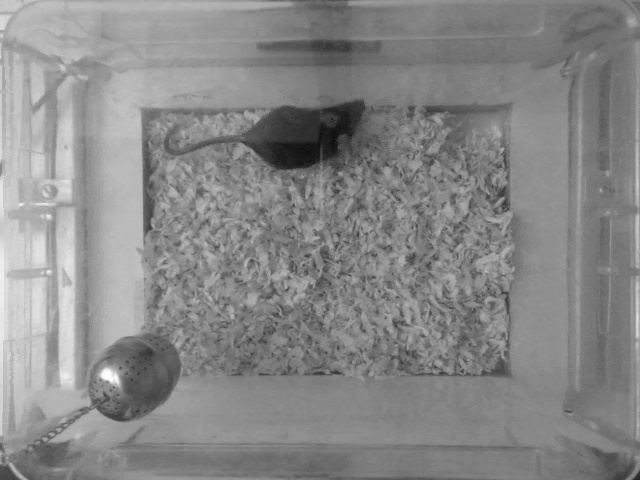mice: (162, 93, 369, 172)
